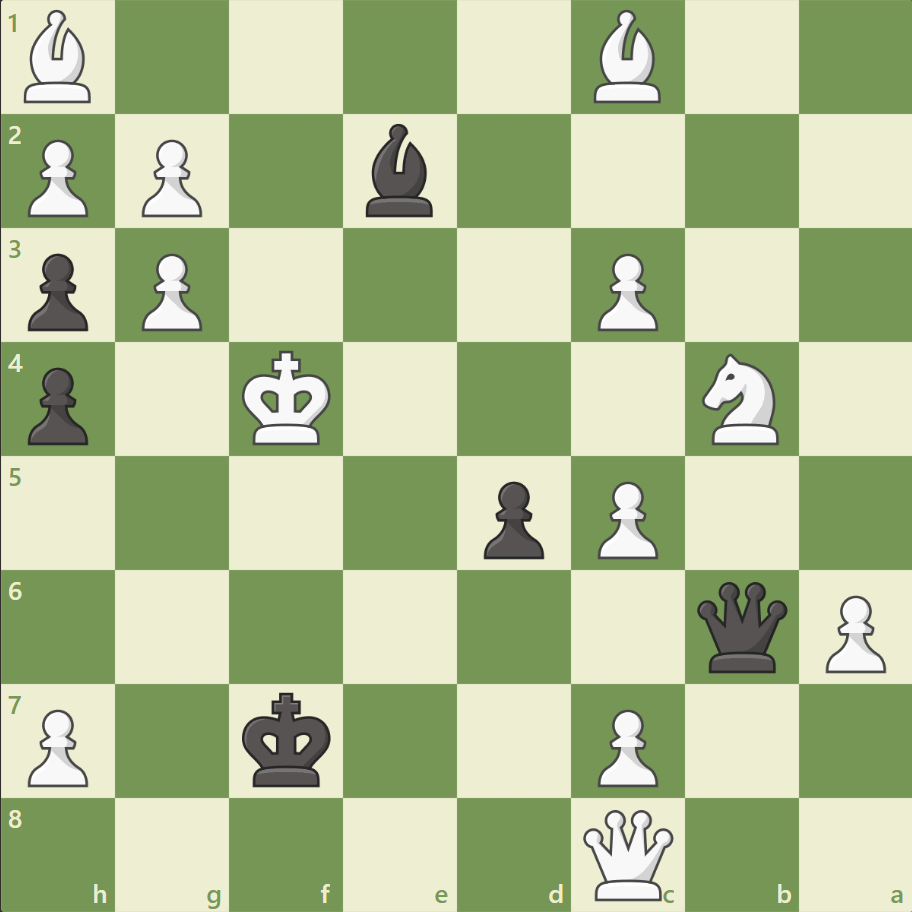B: (585, 6, 669, 109), (17, 6, 101, 109)
K: (238, 344, 338, 452)
N: (692, 348, 789, 450)
P: (20, 700, 95, 791), (133, 246, 208, 337), (133, 132, 208, 223), (20, 132, 95, 223), (588, 700, 662, 791), (815, 586, 889, 677), (588, 473, 662, 564), (588, 246, 662, 337)
Q: (578, 804, 677, 903)
b: (358, 120, 442, 222)
k: (238, 685, 338, 793)
p: (474, 473, 549, 564), (20, 359, 95, 450), (20, 246, 95, 337)
q: (691, 576, 790, 676)
